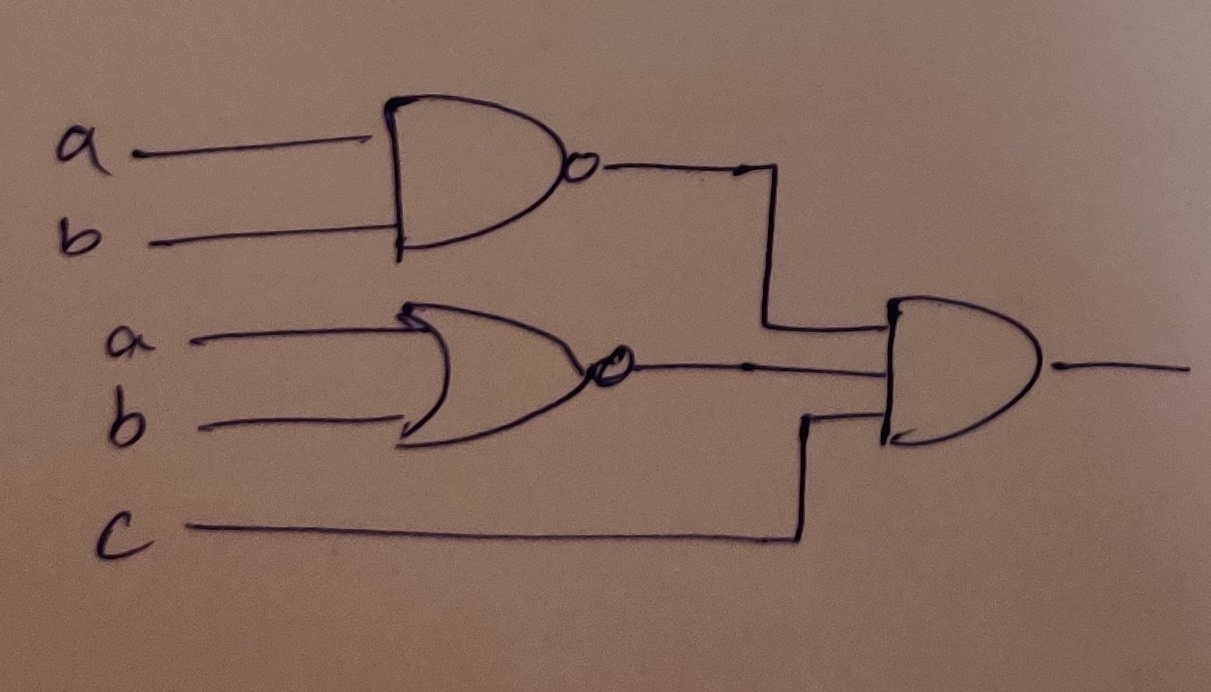and: (854, 281, 1076, 467)
nand: (333, 69, 627, 285)
nor: (373, 292, 658, 465)
